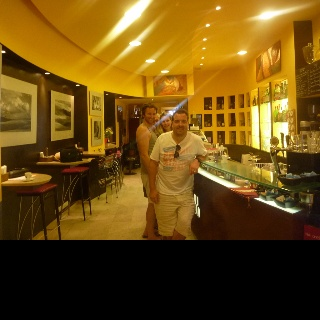without_mask: (171, 112, 189, 135), (142, 108, 156, 123), (159, 114, 171, 129)
